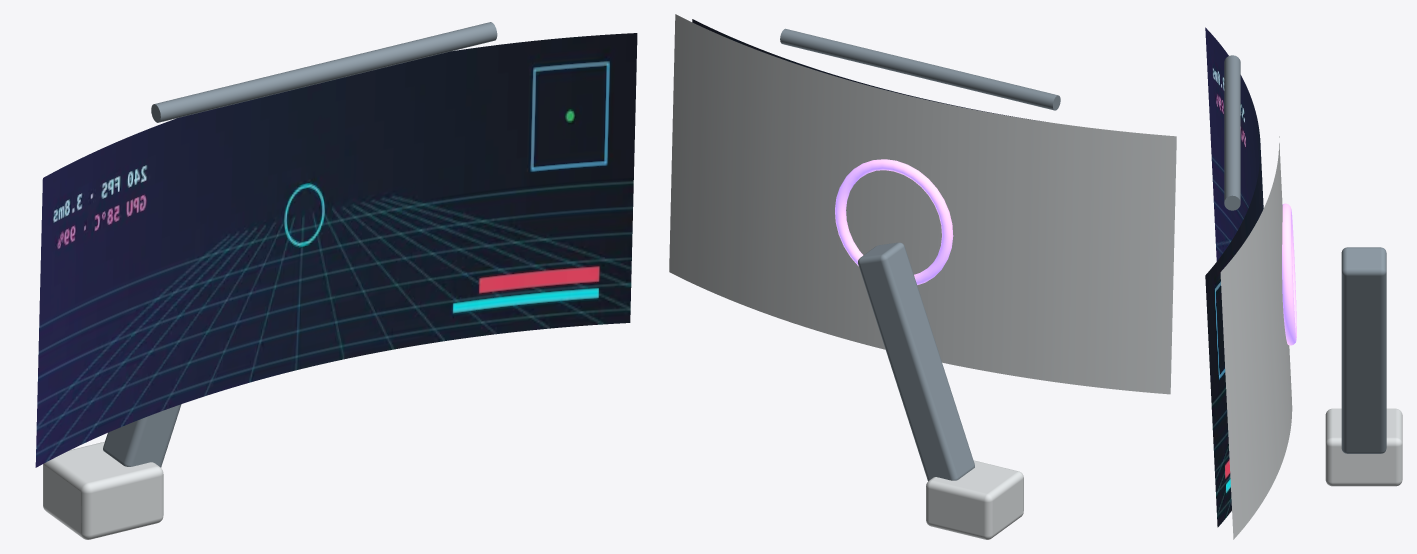
File: atelier-gaming-monitor-arctic.glb
3 views of the same model, side by side, from view 1: azimuth 30°, elevation 25°; view 2: azimuth 150°, elevation 25°; view 3: azimuth 270°, elevation 25° (orthographic). The views are drawn at different scales.
Parts seen in each view (by area): view 1: Gaming curved display, object 1, object 6, object 2; view 2: object 3, object 2, object 1, object 6, object 4, Gaming curved display; view 3: object 3, Gaming curved display, object 2, object 1, object 6, object 4.
Part boxes in pixels (x1,y1,x2,y2): Gaming curved display: (35, 33, 637, 467); object 1: (43, 441, 163, 539); object 6: (151, 22, 497, 122); object 2: (103, 404, 181, 467); object 3: (669, 14, 1176, 394); object 2: (858, 242, 974, 480); object 1: (926, 460, 1023, 539); object 6: (780, 28, 1060, 110); object 4: (835, 159, 953, 284); Gaming curved display: (692, 19, 1039, 120); object 3: (1220, 136, 1292, 539); Gaming curved display: (1205, 27, 1263, 527); object 2: (1341, 247, 1386, 453); object 1: (1325, 408, 1402, 486); object 6: (1224, 55, 1240, 210); object 4: (1282, 203, 1296, 345).
Bounding box in the file's own units: 0.5148 × 0.3778 × 0.1662.
4 materials, 1 textured.
